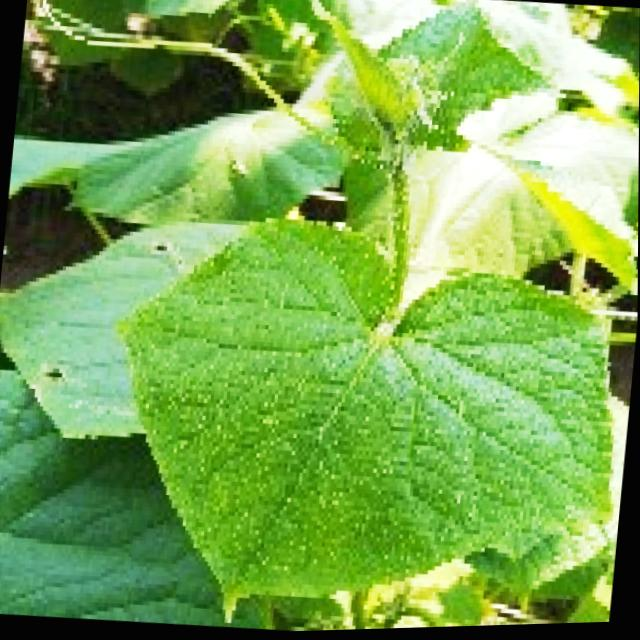Fresh-Leaf: (119, 219, 615, 622)
